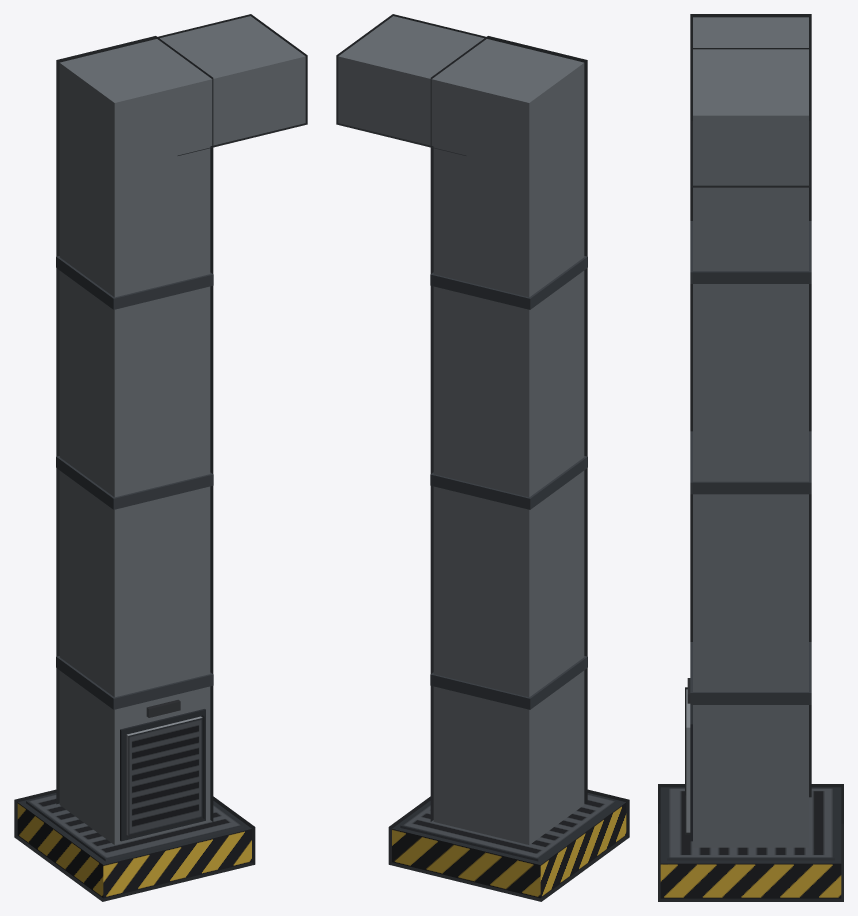
The model's file is SM_Vent.glb.
3 views of the same model, side by side, from view 1: azimuth 30°, elevation 25°; view 2: azimuth 150°, elevation 25°; view 3: azimuth 270°, elevation 25° (orthographic). The views are drawn at different scales.
Parts seen in each view (by area): view 1: SM_Vent, SM_Vent_Outline, SM_Vent_Flap; view 2: SM_Vent, SM_Vent_Outline; view 3: SM_Vent, SM_Vent_Outline, SM_Vent_Flap.
Part boxes in pixels (<box>): SM_Vent: <box>17,16,305,898</box>; SM_Vent_Outline: <box>14,14,307,901</box>; SM_Vent_Flap: <box>126,716,202,835</box>; SM_Vent: <box>338,16,626,898</box>; SM_Vent_Outline: <box>336,14,629,901</box>; SM_Vent: <box>660,17,841,898</box>; SM_Vent_Outline: <box>658,14,843,901</box>; SM_Vent_Flap: <box>686,689,690,832</box>.
Size of the model in its own units: 2.08 by 7.04 by 1.44.
Materials: 3 (1 with a texture image).
